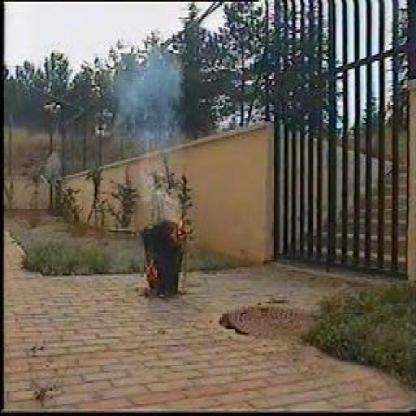-: (121, 53, 175, 184)
foggia-v2-map80-epoch100 - v1 4323: (169, 221, 194, 244)
